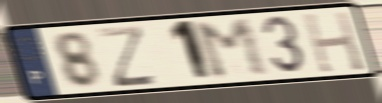1: (168, 18, 215, 85)
3: (258, 13, 309, 78)
8: (53, 29, 104, 91)
H: (300, 9, 369, 75)
M: (189, 16, 274, 82)
Z: (93, 23, 161, 90)
